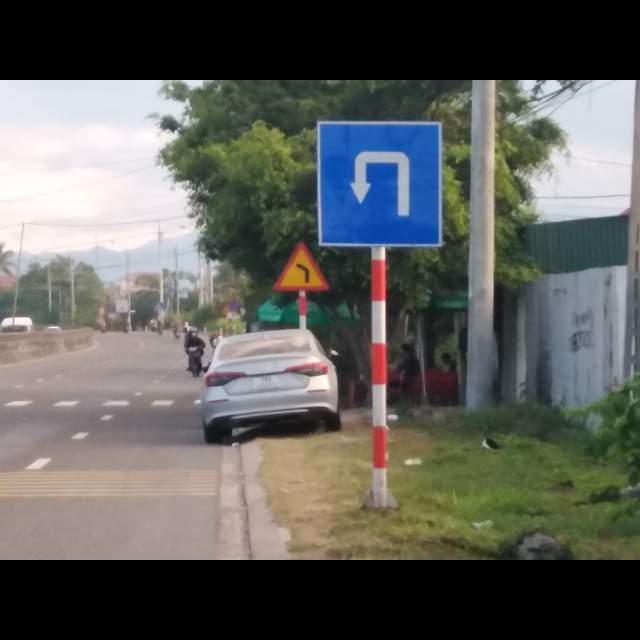Khu vực quay đầu xe: (317, 118, 448, 251)
